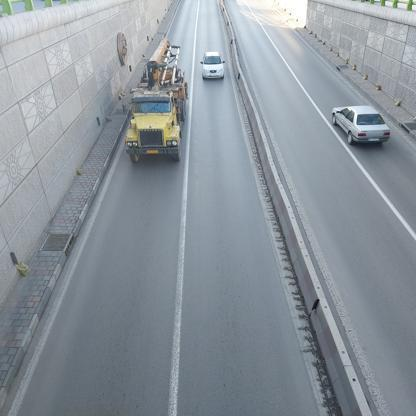Car: (332, 104, 389, 144), (200, 52, 228, 79)
Truck: (132, 36, 186, 163)
